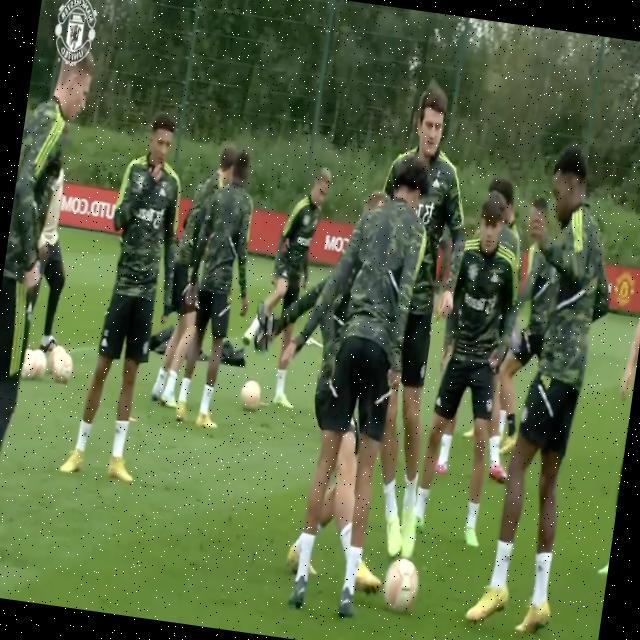Adidas: (489, 273, 500, 286), (158, 187, 167, 199)
